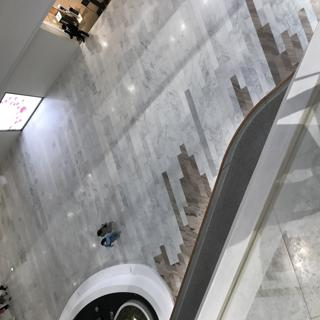person: (96, 234, 131, 252), (94, 221, 122, 232)
